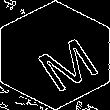M_NW: (17, 21, 93, 89)
